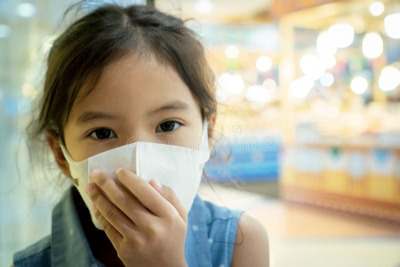with_mask: (66, 99, 209, 235)
